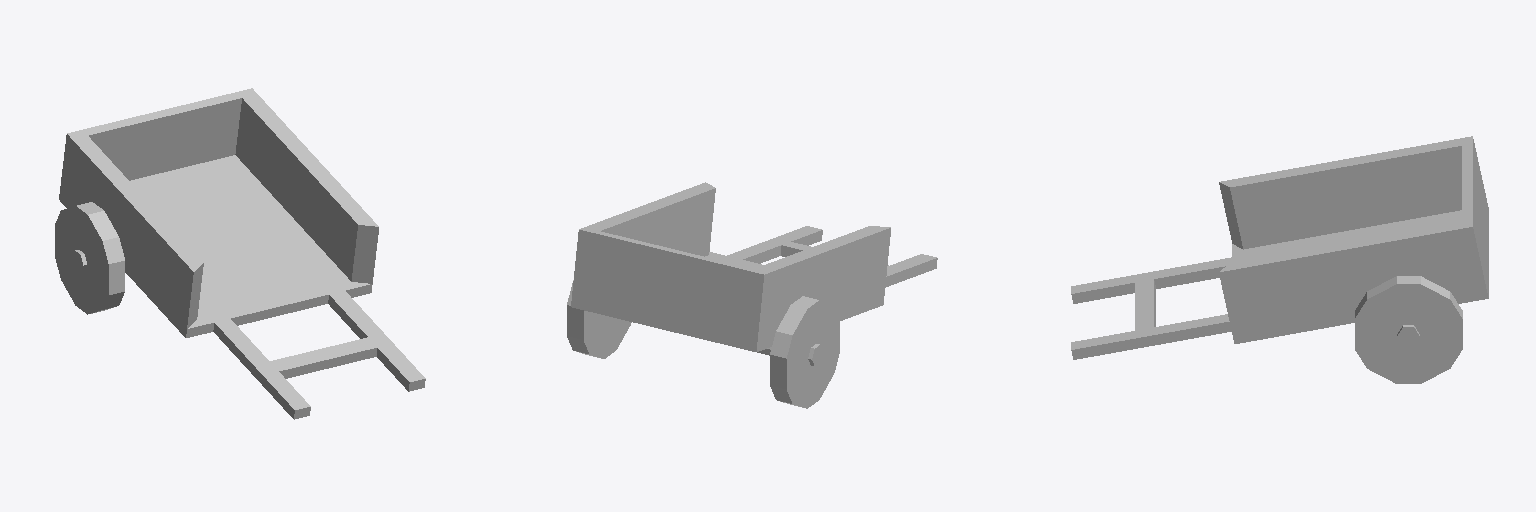
File: cart.obj
3 views of the same model, side by side, from view 1: azimuth 30°, elevation 25°; view 2: azimuth 150°, elevation 25°; view 3: azimuth 270°, elevation 25° (orthographic).
Parts seen in each view (by area): view 1: Cube.007_Cube.020; view 2: Cube.007_Cube.020; view 3: Cube.007_Cube.020.
Part boxes in pixels (bbox=[...]): Cube.007_Cube.020: bbox=[55, 88, 425, 419]; Cube.007_Cube.020: bbox=[567, 182, 937, 408]; Cube.007_Cube.020: bbox=[1071, 136, 1488, 383].
Bounding box in the file's own units: 5.02 × 3.14 × 7.96.